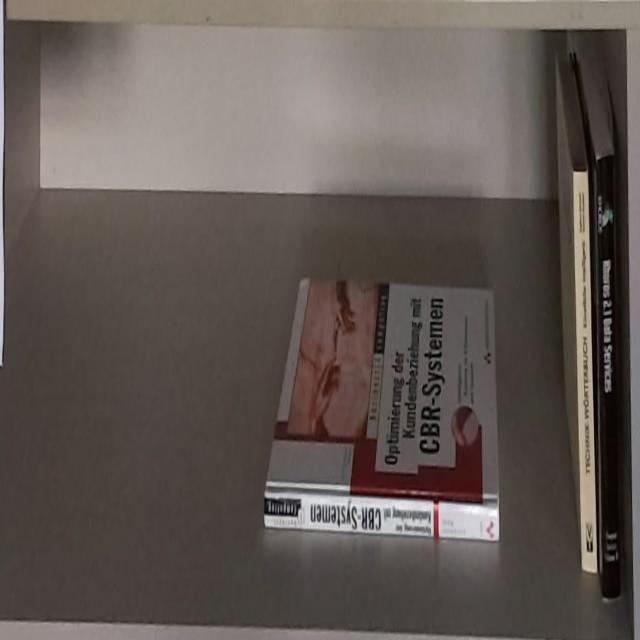Book Spine: (264, 493, 500, 542), (595, 154, 619, 605), (573, 174, 598, 576)
